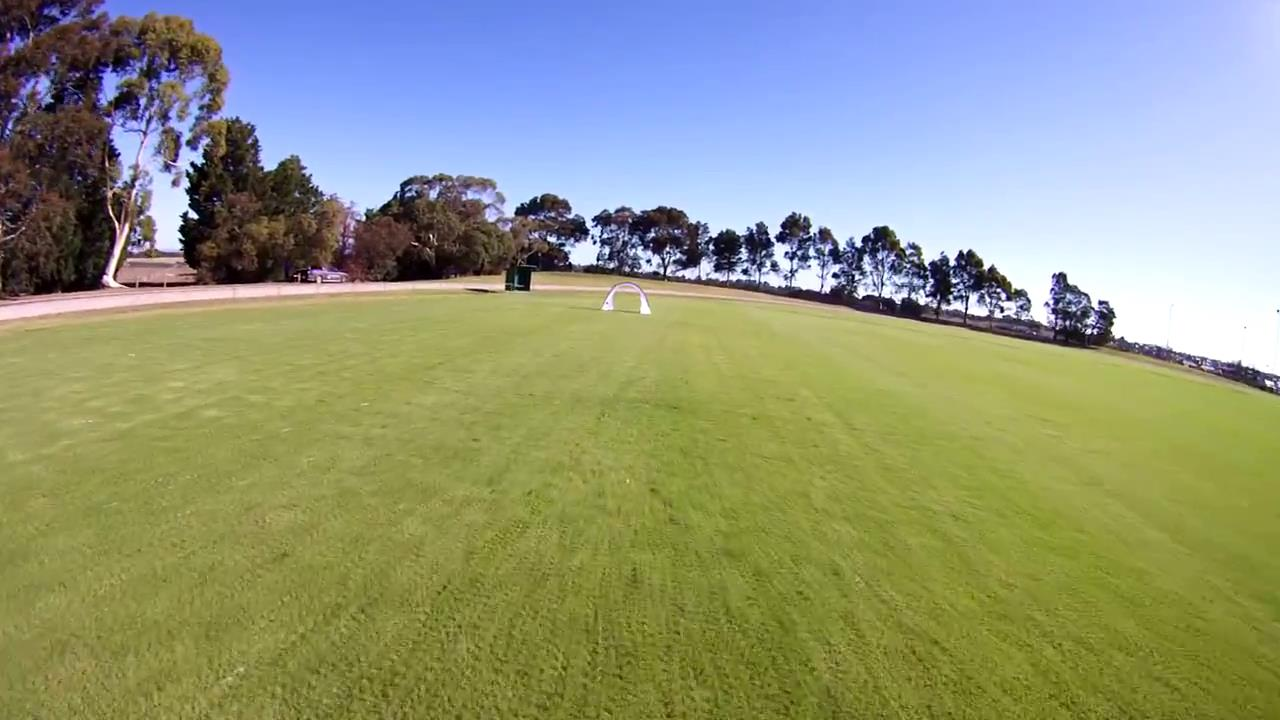gate: (598, 281, 656, 316)
